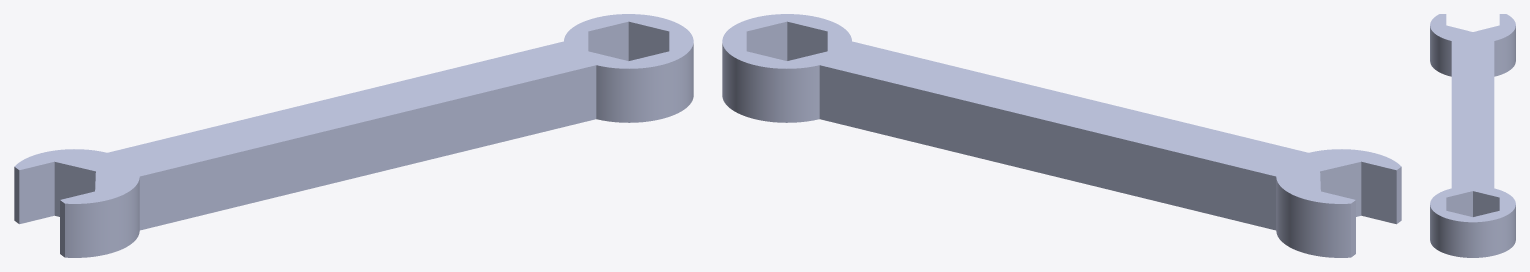
Rendered from wrench_1.obj.
The picture shows the model from 3 angles, left to right: view 1: azimuth 30°, elevation 25°; view 2: azimuth 150°, elevation 25°; view 3: azimuth 270°, elevation 25°; orthographic projection. The views are drawn at different scales.
Parts seen in each view (by area): view 1: mesh4, mesh11, mesh5, mesh3, mesh9, mesh10, mesh14, mesh15; view 2: mesh6, mesh11, mesh5, mesh7, mesh1, mesh0, mesh13, mesh18; view 3: mesh11, mesh5, mesh3, mesh7, mesh16, mesh17.
Part boxes in pixels (x1,y1,x2,y2): mesh4: (139, 65, 596, 230); mesh11: (14, 14, 693, 203); mesh5: (596, 43, 693, 122); mesh3: (65, 178, 139, 257); mesh9: (19, 161, 54, 224); mesh10: (54, 162, 95, 216); mesh14: (628, 21, 669, 60); mesh15: (588, 21, 628, 60); mesh6: (819, 65, 1276, 230); mesh11: (722, 14, 1401, 203); mesh5: (722, 43, 819, 122); mesh7: (1276, 178, 1350, 257); mesh1: (1361, 161, 1396, 224); mesh0: (1320, 162, 1361, 216); mesh13: (746, 21, 787, 60); mesh18: (787, 21, 827, 60); mesh11: (1430, 14, 1515, 222); mesh5: (1430, 205, 1515, 257); mesh3: (1430, 26, 1451, 76); mesh7: (1494, 26, 1515, 76); mesh16: (1473, 191, 1499, 216); mesh17: (1446, 191, 1472, 216).
Bounding box in the file's own units: 0.15 × 0.012 × 0.0261.
